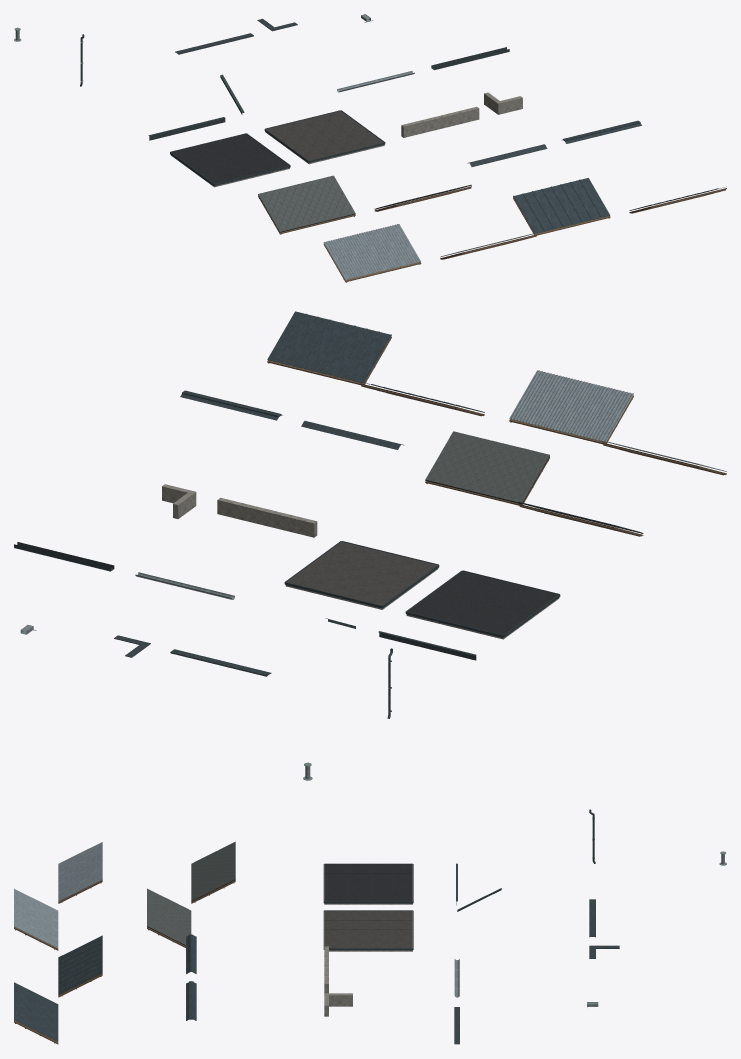
File: PROJECT_Z_Roof_Kit_Pitched_Flat.glb
The picture shows the model from 3 angles, top to bottom: view 1: azimuth 30°, elevation 25°; view 2: azimuth 150°, elevation 25°; view 3: azimuth 270°, elevation 25°; orthographic projection. The views are drawn at different scales.
Parts seen in each view (by area): view 1: PITCH_Shingle_Left_4x2__Shingles, PITCH_Corrugated_Left_4x2__Sheet, PITCH_StandingSeam_Left_4x2__Sheet, FLAT_EPDM_Roof_4x4__Membrane, FLAT_Bitumen_Roof_4x4__Membrane, PARAPET_Straight_4m__Body, PARAPET_OutsideCorner_90deg__Body, EAVE_FasciaMetal_4m__FoldedFascia, GUTTER_Box_4m__BoxProfile, RIDGE_FoldedCap_4m__FoldedCap; view 2: PITCH_Shingle_Right_4x2__Shingles, PITCH_StandingSeam_Right_4x2__Sheet, PITCH_Corrugated_Right_4x2__Sheet, FLAT_EPDM_Roof_4x4__Membrane, FLAT_Bitumen_Roof_4x4__Membrane, PARAPET_Straight_4m__Body, PARAPET_OutsideCorner_90deg__Body, GUTTER_Box_4m__BoxProfile; view 3: FLAT_EPDM_Roof_4x4__Membrane, FLAT_Bitumen_Roof_4x4__Membrane, PITCH_Corrugated_Left_4x2__Sheet, PITCH_Corrugated_Right_4x2__Sheet, PITCH_StandingSeam_Left_4x2__Sheet, PITCH_StandingSeam_Right_4x2__Sheet, PITCH_Shingle_Left_4x2__Shingles, PITCH_Shingle_Right_4x2__Shingles, PARAPET_OutsideCorner_90deg__Body, RIDGE_FoldedCap_4m__FoldedCap.
Part boxes in pixels (box(x1,y1,x2,y2)): PITCH_Shingle_Left_4x2__Shingles: box(258, 175, 355, 231); PITCH_Corrugated_Left_4x2__Sheet: box(323, 224, 420, 279); PITCH_StandingSeam_Left_4x2__Sheet: box(513, 178, 610, 233); FLAT_EPDM_Roof_4x4__Membrane: box(171, 134, 288, 183); FLAT_Bitumen_Roof_4x4__Membrane: box(266, 111, 383, 160); PARAPET_Straight_4m__Body: box(401, 106, 479, 137); PARAPET_OutsideCorner_90deg__Body: box(484, 92, 522, 114); EAVE_FasciaMetal_4m__FoldedFascia: box(148, 117, 225, 140); GUTTER_Box_4m__BoxProfile: box(431, 47, 509, 70); RIDGE_FoldedCap_4m__FoldedCap: box(467, 144, 547, 166); PITCH_Shingle_Right_4x2__Shingles: box(425, 431, 549, 502); PITCH_StandingSeam_Right_4x2__Sheet: box(267, 311, 391, 382); PITCH_Corrugated_Right_4x2__Sheet: box(509, 370, 633, 441); FLAT_EPDM_Roof_4x4__Membrane: box(407, 571, 558, 635); FLAT_Bitumen_Roof_4x4__Membrane: box(286, 541, 437, 605); PARAPET_Straight_4m__Body: box(217, 497, 317, 537); PARAPET_OutsideCorner_90deg__Body: box(162, 484, 196, 518); GUTTER_Box_4m__BoxProfile: box(14, 542, 114, 571); FLAT_EPDM_Roof_4x4__Membrane: box(324, 864, 412, 901); FLAT_Bitumen_Roof_4x4__Membrane: box(324, 911, 412, 948); PITCH_Corrugated_Left_4x2__Sheet: box(58, 842, 102, 901); PITCH_Corrugated_Right_4x2__Sheet: box(14, 889, 58, 947); PITCH_StandingSeam_Left_4x2__Sheet: box(58, 935, 102, 994); PITCH_StandingSeam_Right_4x2__Sheet: box(14, 982, 58, 1041); PITCH_Shingle_Left_4x2__Shingles: box(191, 841, 235, 900); PITCH_Shingle_Right_4x2__Shingles: box(147, 888, 191, 945); PARAPET_OutsideCorner_90deg__Body: box(324, 993, 352, 1016); RIDGE_FoldedCap_4m__FoldedCap: box(186, 934, 196, 973).
Bounding box in the file's own units: 19.17 × 2.9 × 32.17.
Materials: 8 (8 with a texture image).
